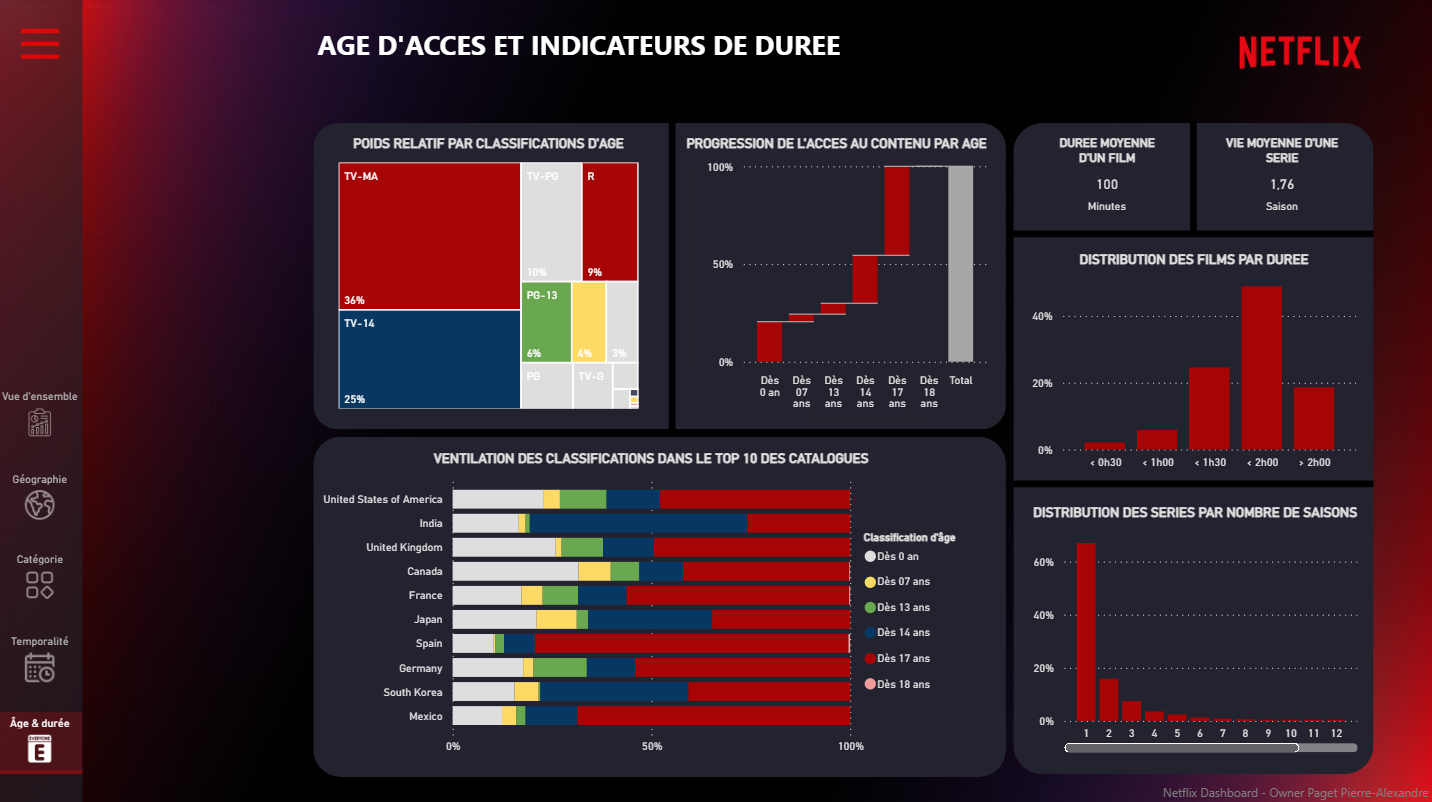

This screenshot's page, from the dashboard's own definition file:
{"tool":"powerbi","page":{"name":"Âge & Durée","canvas":[1280,720],"ordinal":4},"visuals":[{"type":"group","id":"g1","title":"Groupe de page","box":[0,0,76.2,720.7],"z":0,"group":"g2"},{"type":"shape","title":"Forme - pages","box":[0,0,76,720.7],"z":0,"group":"g1"},{"type":"shape","box":[281.1,111.7,617,273],"z":0},{"type":"pageNavigator","box":[0,344.1,76.2,351],"z":1000,"group":"g1"},{"type":"image","title":"Image - menu","box":[15.2,15.7,45.7,50],"z":2000,"group":"g1"},{"type":"shape","title":"Forme - réalisation","box":[905.3,111.7,321,579.9],"z":2000},{"type":"shape","box":[281.1,391,617,303],"z":3000},{"type":"textbox","box":[1013.1,692.5,266.9,27.5],"z":4000},{"type":"group","id":"g2","title":"Groupe MENU","box":[0,0,229.2,720.7],"z":5000},{"type":"waterfallChart","title":"PROGRESSION DE L''ACCES AU CONTENU PAR AGE","fields":{"Category":["Code Classification.Âge"],"Y":["CountNonNull(fact_titles.show_id)"]},"box":[609.2,122.4,277.5,262.5],"z":6000},{"type":"treemap","title":"POIDS RELATIF PAR CLASSIFICATIONS D''AGE","fields":{"Group":["dim_classification.Code","Code Classification.Âge"],"Values":["CountNonNull(fact_titles.show_id)"]},"box":[299.7,122.4,276.7,248.3],"z":7000},{"type":"columnChart","title":"DISTRIBUTION DES FILMS PAR DUREE","fields":{"Category":["Titles.duration_categorie"],"Y":["Count(Titles.show_id)"]},"box":[916,226.1,299.7,201.3],"z":8000},{"type":"columnChart","title":"DISTRIBUTION DES SERIES PAR NOMBRE DE SAISONS","fields":{"Category":["Titles.duration"],"Y":["Divide(Count(Titles.show_id), ScopedEval(Count(Titles.show_id), []))"]},"box":[917.7,450.4,299.7,226.1],"z":9000},{"type":"card","title":"VIE MOYENNE D''UNE SERIE","fields":{"Values":["Avg(Titles.duration)"]},"box":[1086.2,122.4,116.2,75.4],"z":10000},{"type":"hundredPercentStackedBarChart","title":"VENTILATION DES CLASSIFICATIONS DANS LE TOP 10 DES CATALOGUES","fields":{"Category":["dim_geography.country"],"Series":["Code Classification.Âge"],"Y":["CountNonNull(fact_titles.show_id)"]},"box":[284.6,402.6,595,277.5],"z":11000},{"type":"shape","title":"Forme - trait noir","box":[905.3,180.9,321,59.4],"z":12000},{"type":"shape","title":"Forme - trait noir","box":[905.3,402.6,321,59.4],"z":13000},{"type":"shape","title":"Forme - trait noir","box":[1050.7,110,29.3,101.1],"z":14000},{"type":"card","title":"DUREE MOYENNE D''UN FILM","fields":{"Values":["Avg(Titles.duration)"]},"box":[931,122.4,116.2,75.4],"z":15000},{"type":"textbox","box":[280.9,20,875.5,41.8],"z":16000},{"type":"image","title":"Image - logo","box":[1094.2,0,132.7,94.1],"z":17000},{"type":"shape","title":"Forme - trait noir","box":[587,111.7,29.3,274.9],"z":18000},{"type":"image","title":"Vue d''ensemble","box":[0,349.4,76.3,41.7],"z":19000},{"type":"image","title":"Géographie","box":[0,423,76.3,41.7],"z":20000},{"type":"image","title":"Catégorie","box":[0,494.8,76.3,41.7],"z":21000},{"type":"image","title":"Temporalité","box":[0,567.5,76.3,41.7],"z":22000},{"type":"image","title":"Âge & durée","box":[0,640.2,76.3,41.7],"z":23000}]}

Visuals, with their boxes in screenshot pixels (x1, y1, x2, y2), scaled from the page's 1280x720 canvas onto the 1432x802 screenshot:
"Groupe de page" group: x1=0, y1=0, x2=85, y2=801
"Forme - pages" shape: x1=0, y1=0, x2=85, y2=801
shape: x1=314, y1=124, x2=1005, y2=429
pageNavigator: x1=0, y1=383, x2=85, y2=774
"Image - menu" image: x1=17, y1=17, x2=68, y2=73
"Forme - réalisation" shape: x1=1013, y1=124, x2=1372, y2=770
shape: x1=314, y1=436, x2=1005, y2=773
textbox: x1=1133, y1=771, x2=1431, y2=801
"Groupe MENU" group: x1=0, y1=0, x2=256, y2=801
"PROGRESSION DE L''ACCES AU CONTENU PAR AGE" waterfallChart: x1=682, y1=136, x2=992, y2=429
"POIDS RELATIF PAR CLASSIFICATIONS D''AGE" treemap: x1=335, y1=136, x2=645, y2=413
"DISTRIBUTION DES FILMS PAR DUREE" columnChart: x1=1025, y1=252, x2=1360, y2=476
"DISTRIBUTION DES SERIES PAR NOMBRE DE SAISONS" columnChart: x1=1027, y1=502, x2=1362, y2=754
"VIE MOYENNE D''UNE SERIE" card: x1=1215, y1=136, x2=1345, y2=220
"VENTILATION DES CLASSIFICATIONS DANS LE TOP 10 DES CATALOGUES" hundredPercentStackedBarChart: x1=318, y1=448, x2=984, y2=758
"Forme - trait noir" shape: x1=1013, y1=202, x2=1372, y2=268
"Forme - trait noir" shape: x1=1013, y1=448, x2=1372, y2=515
"Forme - trait noir" shape: x1=1175, y1=123, x2=1208, y2=235
"DUREE MOYENNE D''UN FILM" card: x1=1042, y1=136, x2=1172, y2=220
textbox: x1=314, y1=22, x2=1294, y2=69
"Image - logo" image: x1=1224, y1=0, x2=1373, y2=105
"Forme - trait noir" shape: x1=657, y1=124, x2=689, y2=431
"Vue d''ensemble" image: x1=0, y1=389, x2=85, y2=436
"Géographie" image: x1=0, y1=471, x2=85, y2=518
"Catégorie" image: x1=0, y1=551, x2=85, y2=598
"Temporalité" image: x1=0, y1=632, x2=85, y2=679
"Âge & durée" image: x1=0, y1=713, x2=85, y2=760
